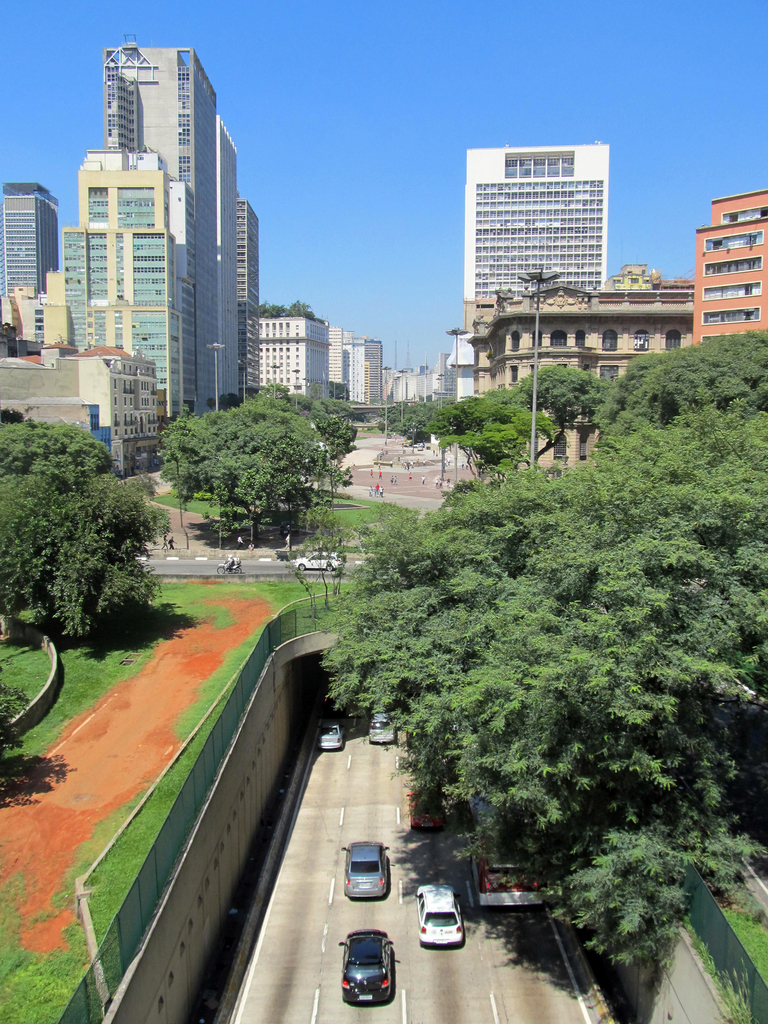Car: (335, 928, 391, 1003), (339, 844, 391, 912), (416, 879, 464, 947), (368, 712, 403, 757), (316, 721, 342, 750)
